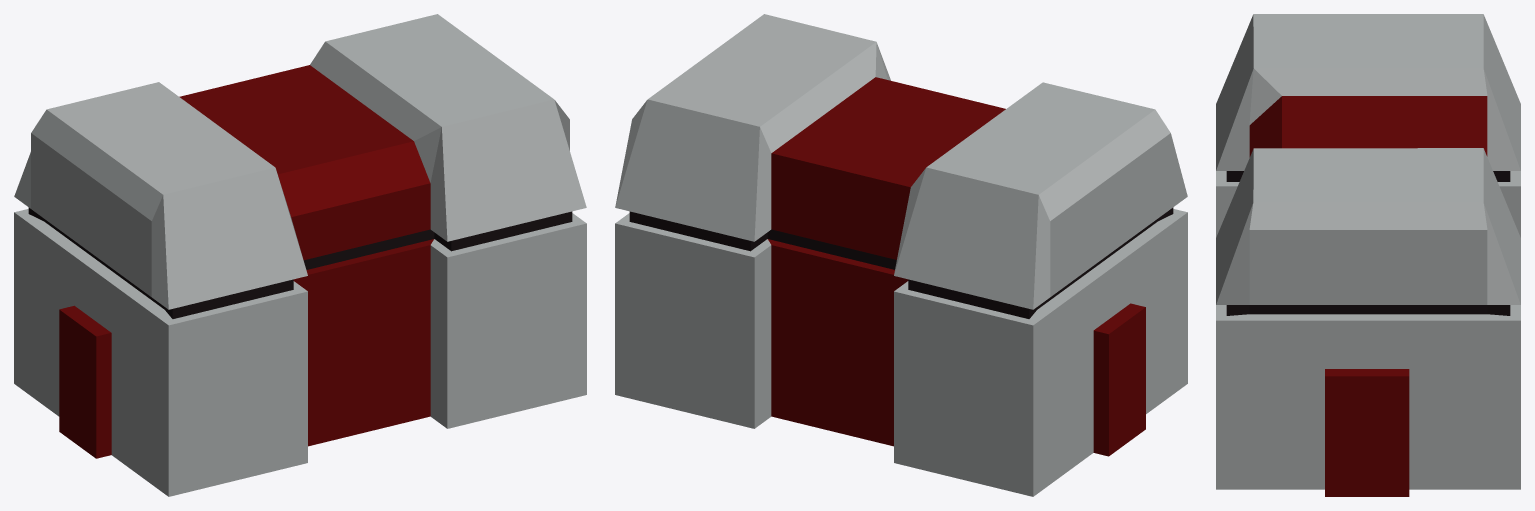
The model's file is Chest_White.fbx.
3 views of the same model, side by side, from view 1: azimuth 30°, elevation 25°; view 2: azimuth 150°, elevation 25°; view 3: azimuth 270°, elevation 25° (orthographic).
Visible parts, largest first — view 1: Chest; view 2: Chest; view 3: Chest.
Boxes of the visible parts, bbox=[...] form: Chest: bbox=[14, 14, 586, 496]; Chest: bbox=[615, 14, 1187, 496]; Chest: bbox=[1216, 14, 1520, 496].
Size of the model in its own units: 215 by 130 by 128.
1 material, 1 textured.
